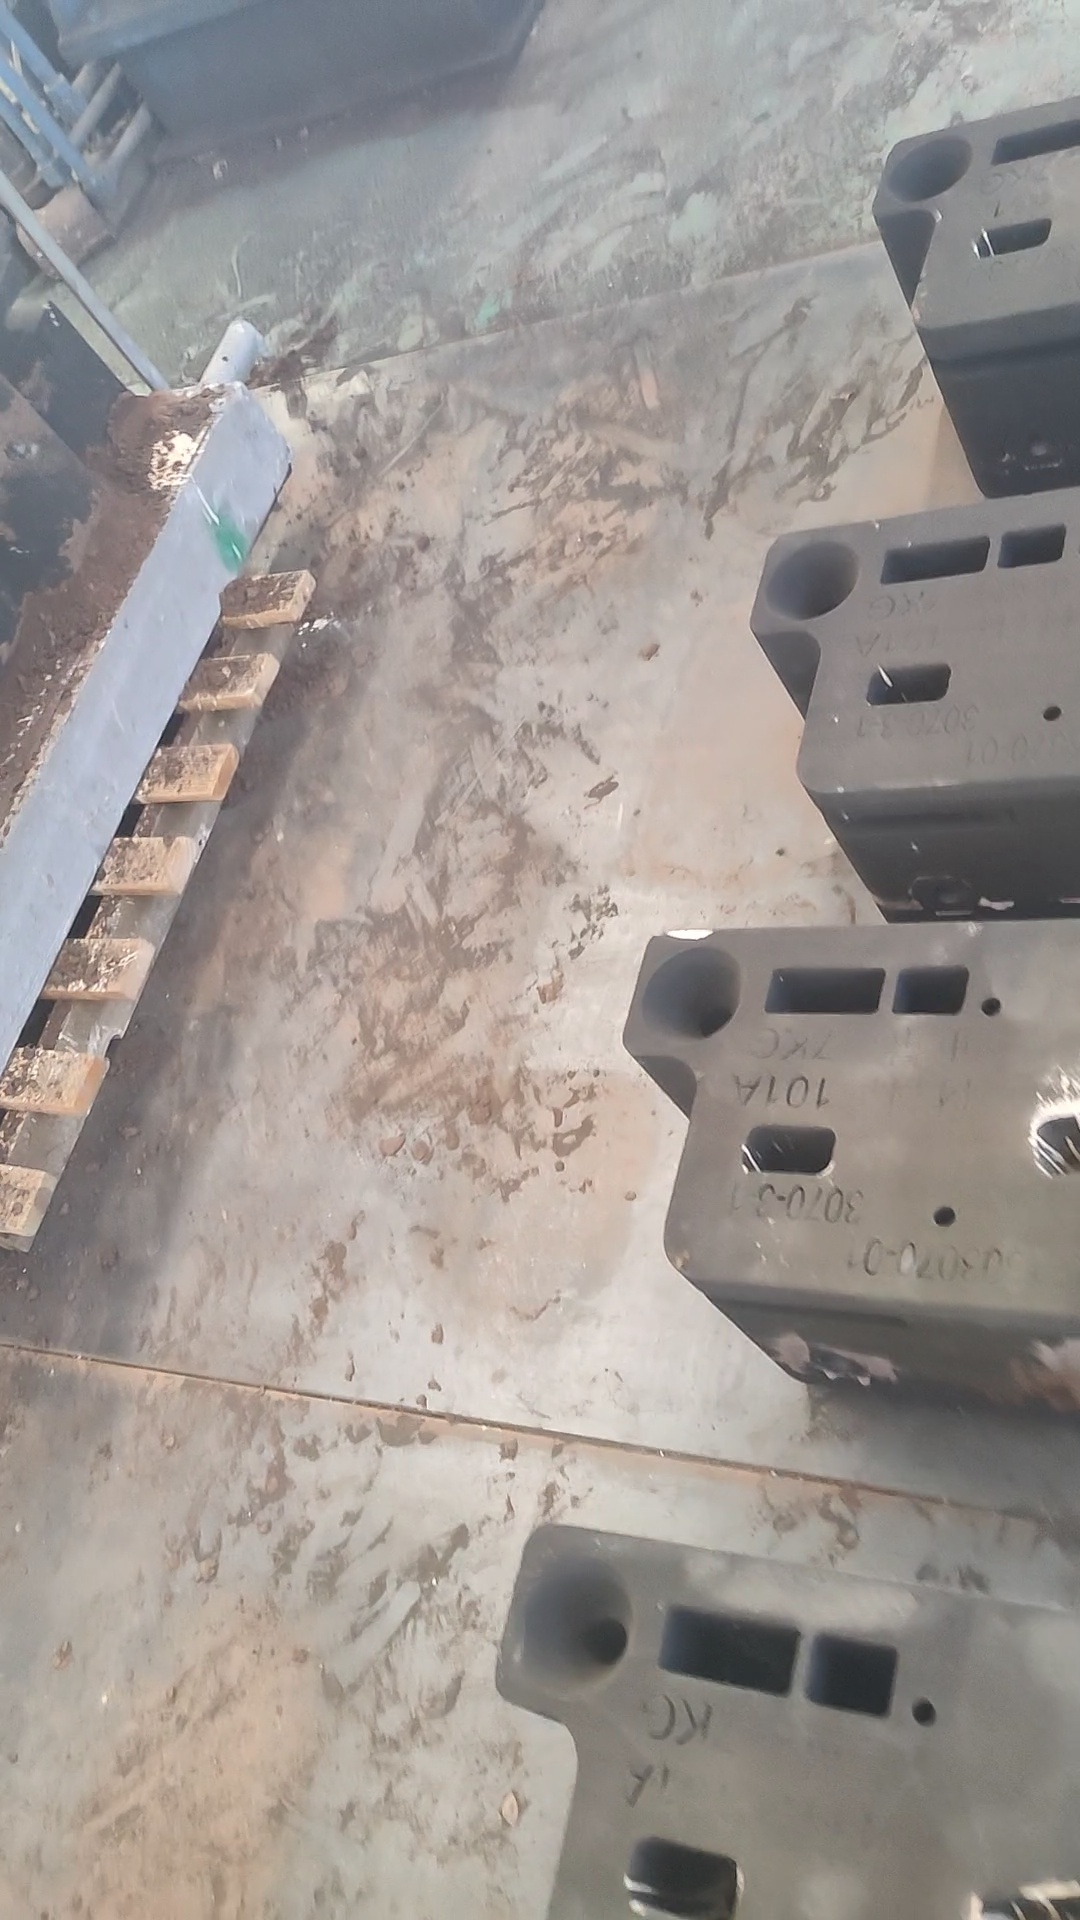pouring hole: (508, 1557, 632, 1702), (642, 945, 742, 1046), (765, 541, 858, 620), (885, 135, 975, 200)
